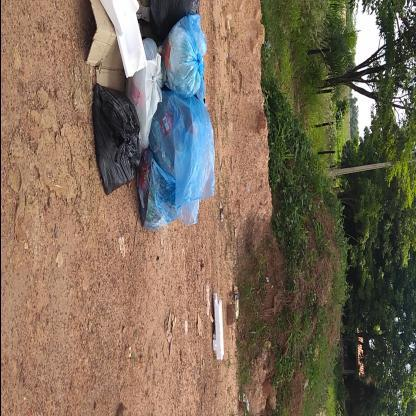lixo: (90, 0, 205, 206)
